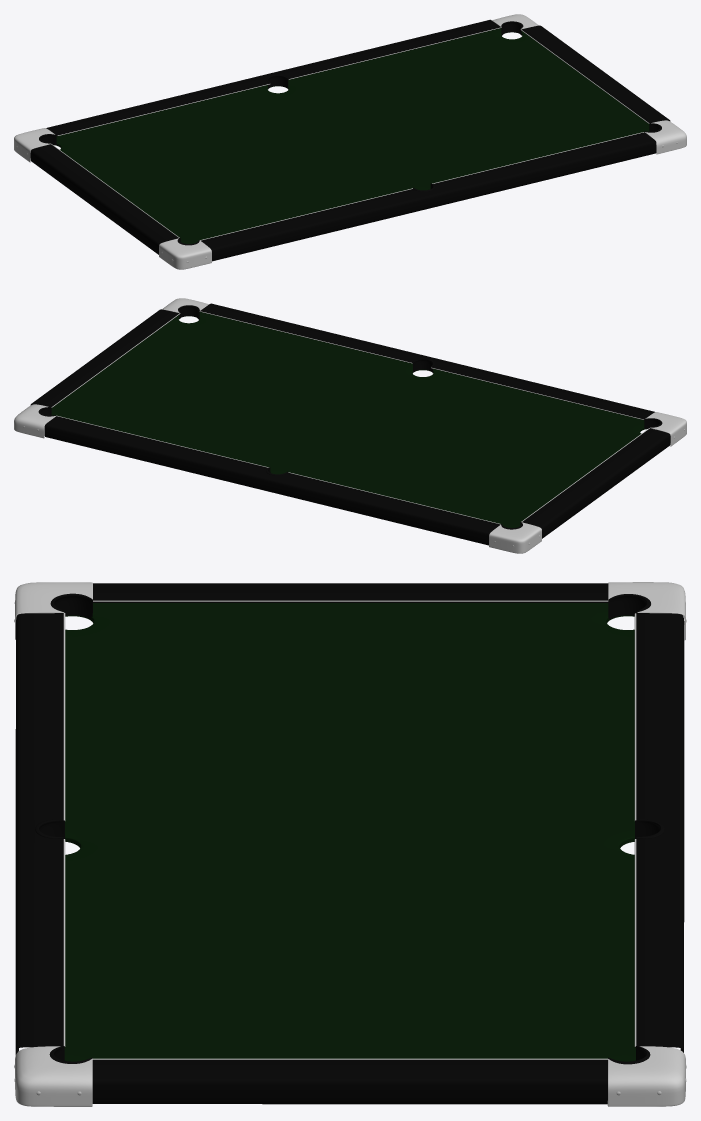
File: table_top_edge.obj
3 views of the same model, one above another, from view 1: azimuth 30°, elevation 25°; view 2: azimuth 150°, elevation 25°; view 3: azimuth 270°, elevation 25° (orthographic). The views are drawn at different scales.
Parts seen in each view (by area): view 1: Table-top_Plane.004, Plane.005_Plane.008, Chrome-corners_Circle.006, Table-top-trim_Plane.032, Pocket-cushions_Circle.002; view 2: Table-top_Plane.004, Plane.005_Plane.008, Chrome-corners_Circle.006, Table-top-trim_Plane.032, Pocket-cushions_Circle.002; view 3: Table-top_Plane.004, Plane.005_Plane.008, Chrome-corners_Circle.006, Table-top-trim_Plane.032, Pocket-cushions_Circle.002.
Part boxes in pixels (box(x1,y1,x2,y2)): Table-top_Plane.004: box(54, 28, 649, 243); Plane.005_Plane.008: box(30, 19, 670, 261); Chrome-corners_Circle.006: box(14, 14, 686, 269); Table-top-trim_Plane.032: box(51, 27, 649, 240); Pocket-cushions_Circle.002: box(39, 21, 661, 245); Table-top_Plane.004: box(51, 312, 646, 527); Plane.005_Plane.008: box(30, 303, 670, 545); Chrome-corners_Circle.006: box(14, 298, 686, 553); Table-top-trim_Plane.032: box(51, 311, 649, 524); Pocket-cushions_Circle.002: box(38, 305, 662, 529); Table-top_Plane.004: box(64, 603, 649, 1061); Plane.005_Plane.008: box(15, 583, 684, 1104); Chrome-corners_Circle.006: box(15, 582, 685, 1106); Table-top-trim_Plane.032: box(63, 600, 636, 1059); Pocket-cushions_Circle.002: box(35, 593, 664, 1064).
Bounding box in the file's own units: 2.52 × 0.0688 × 1.43.
